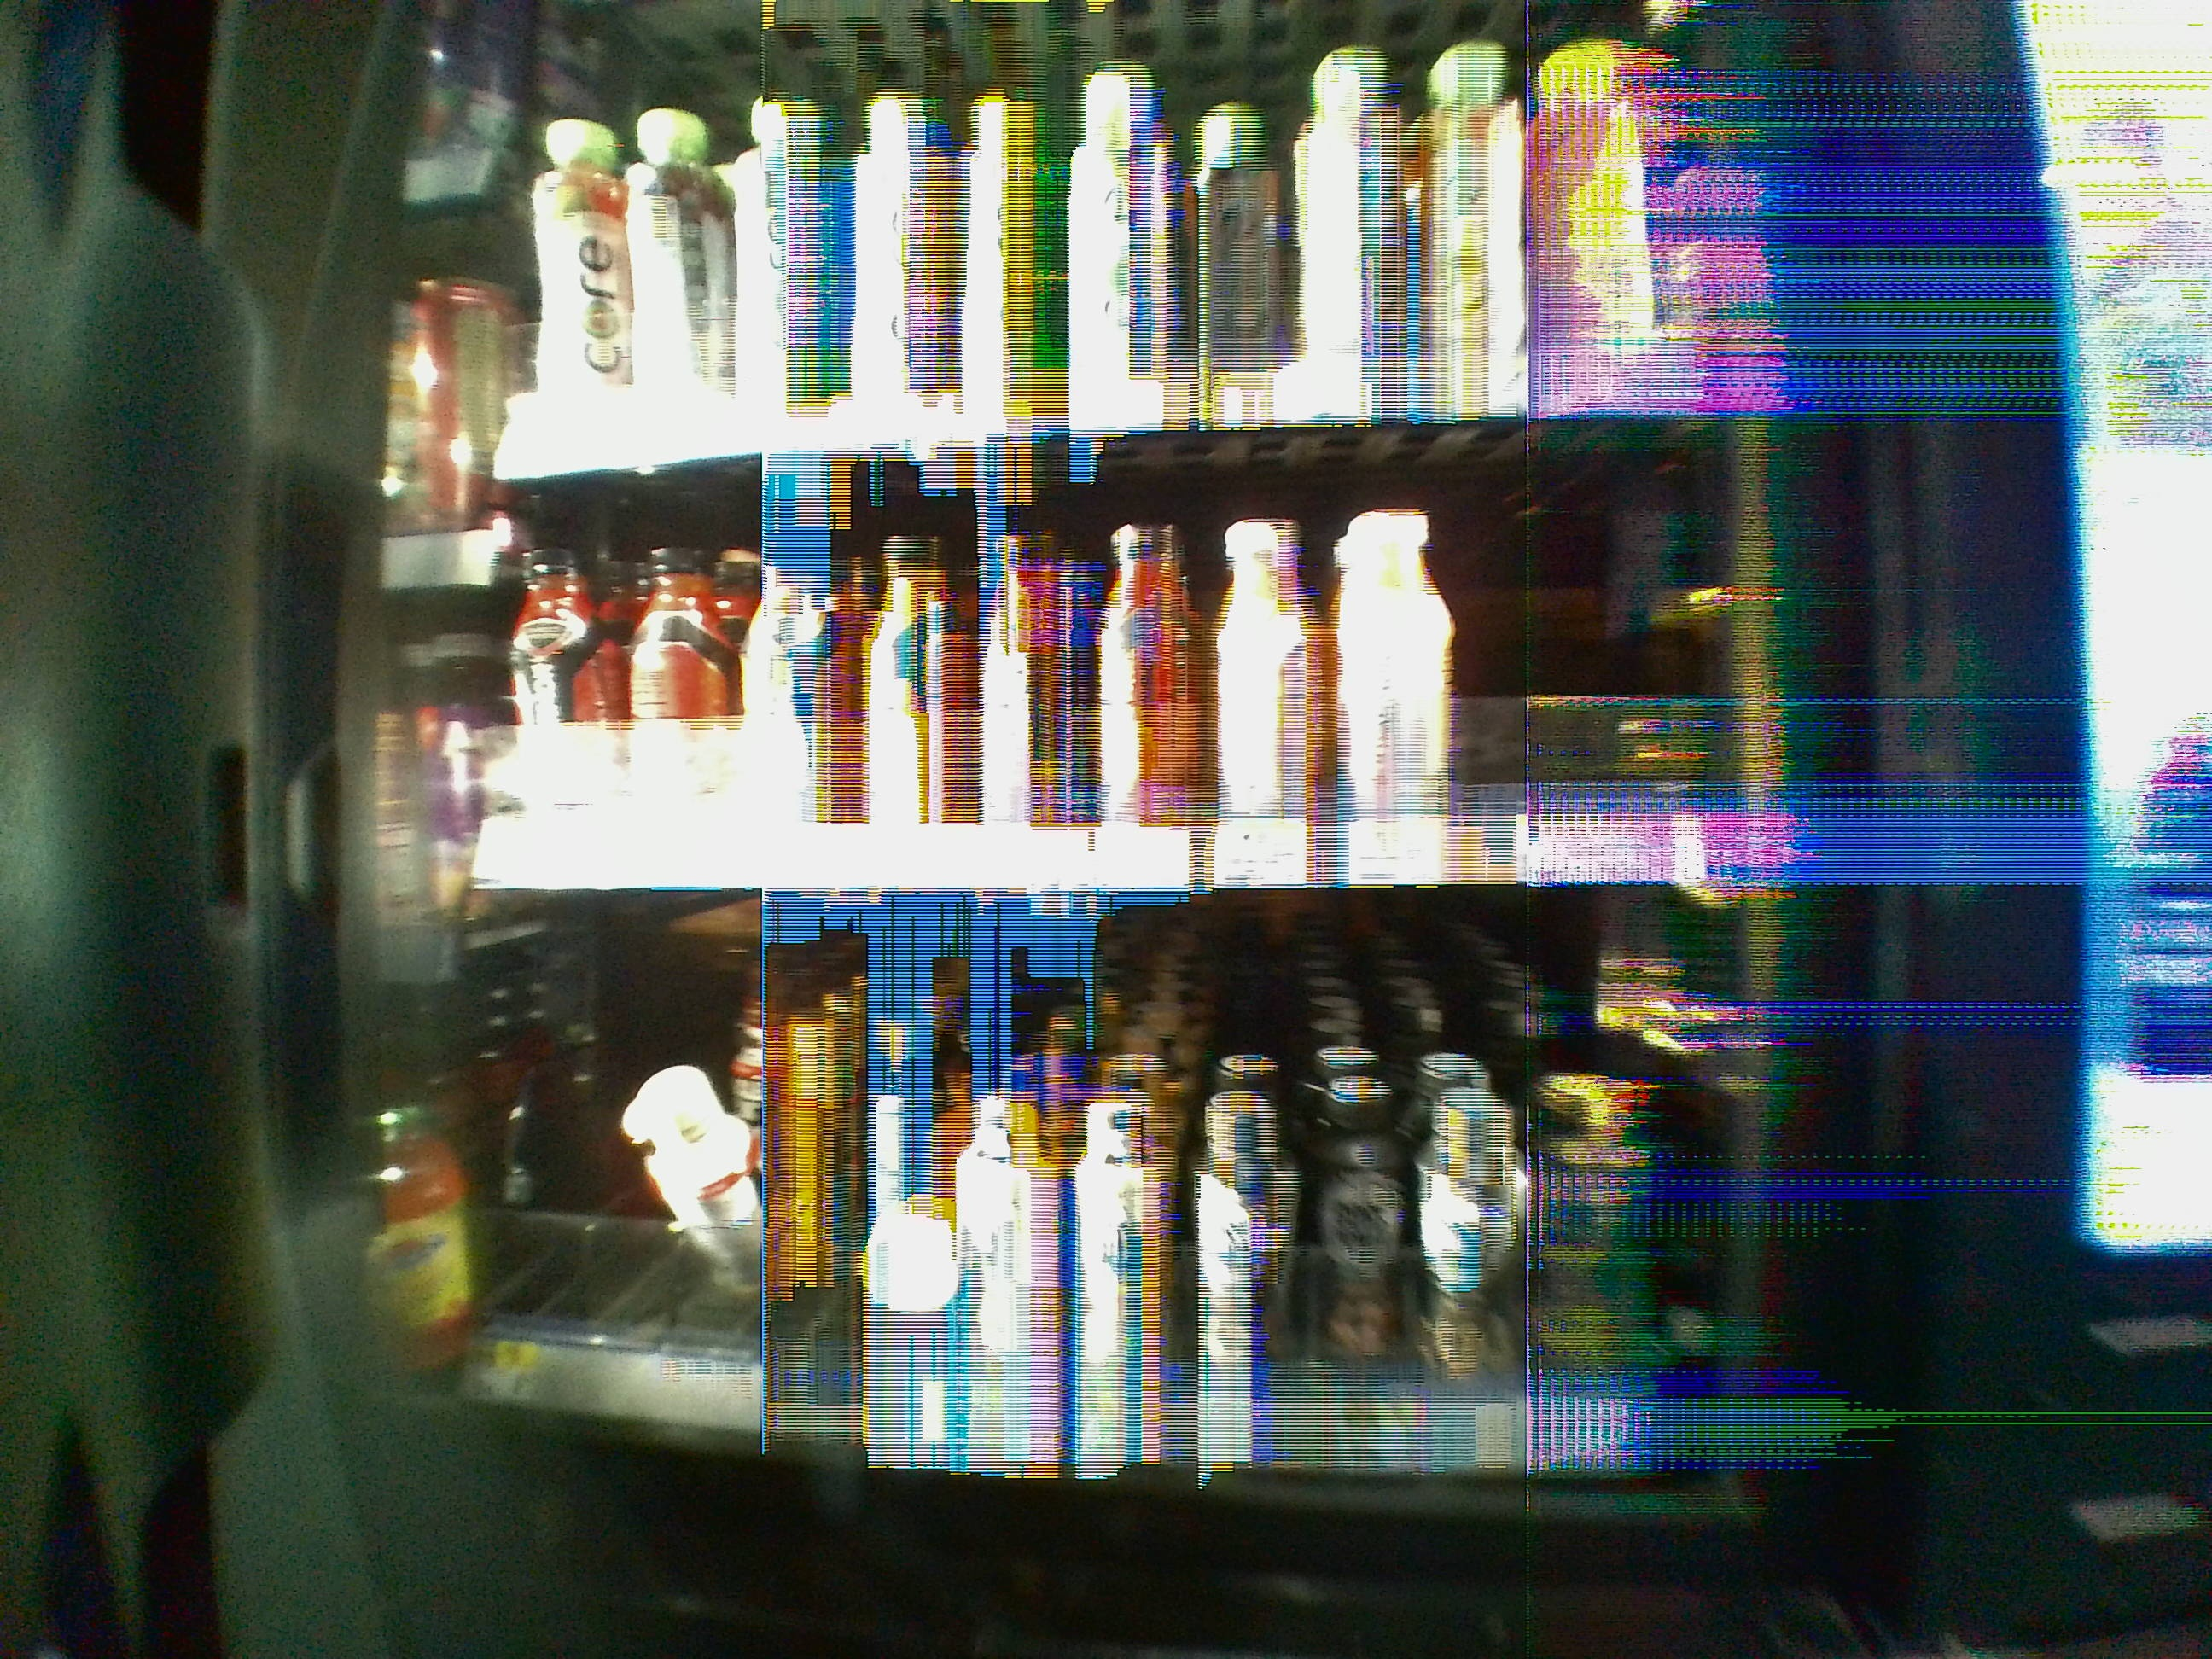shelf: (495, 441, 1806, 889)
